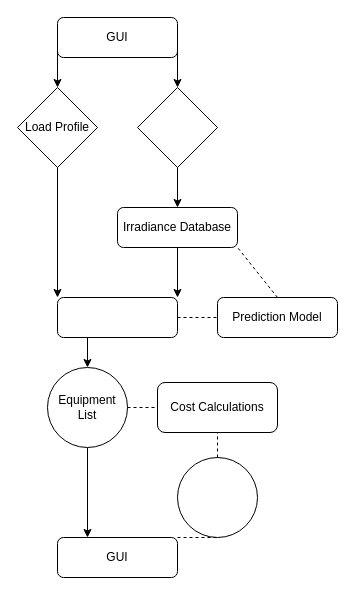
The diagram is 355 pixels wide and 595 high, and some of its shapes have lost their labels. Each missing label, with the centre of its shape:
"Cost of Upkeep" belongs at (217,497).
"Lat/Lon Input" belongs at (177,127).
"PySam Model" belongs at (117,317).
